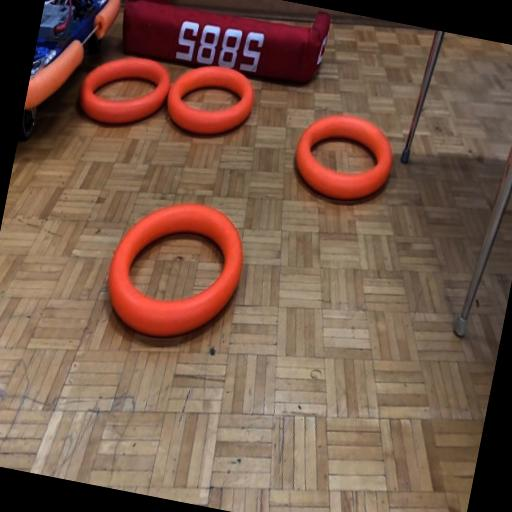robot: (17, 0, 125, 155)
